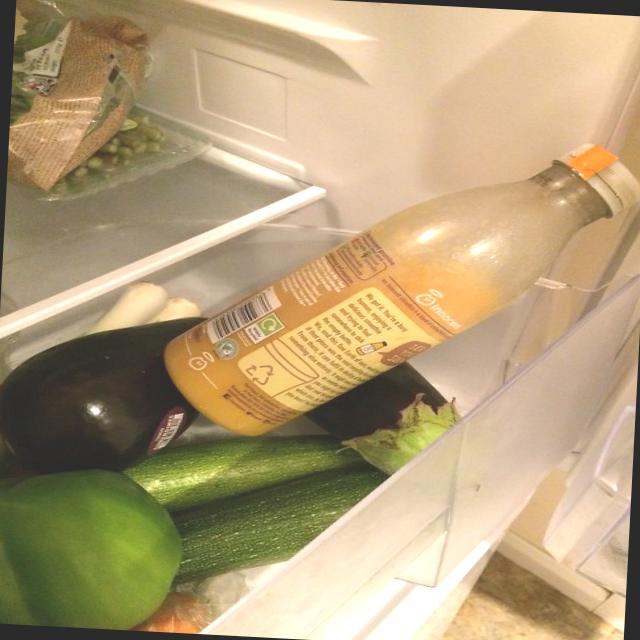Recycle: (157, 115, 640, 458)
